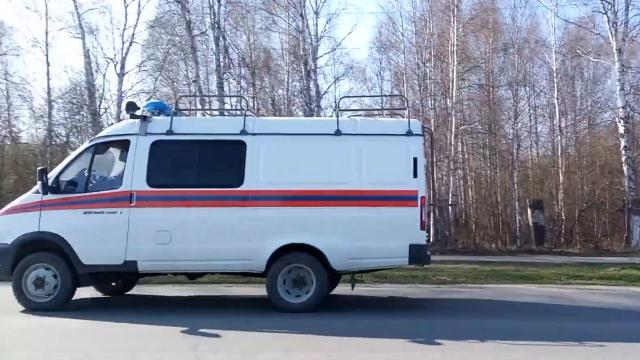ambulance: (0, 91, 430, 313)
